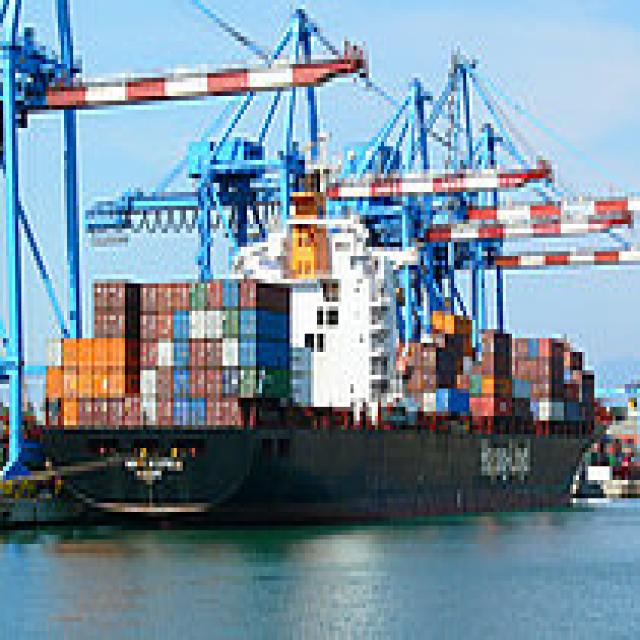Cargo: (28, 160, 610, 530)
